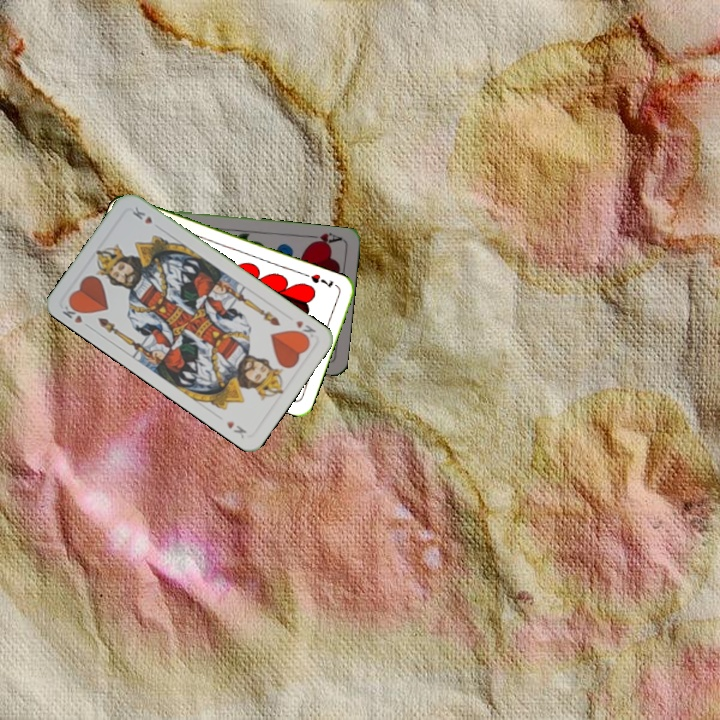H7: (307, 270, 336, 291)
HA: (304, 229, 345, 249)
HK: (58, 298, 94, 331), (290, 316, 319, 343)
